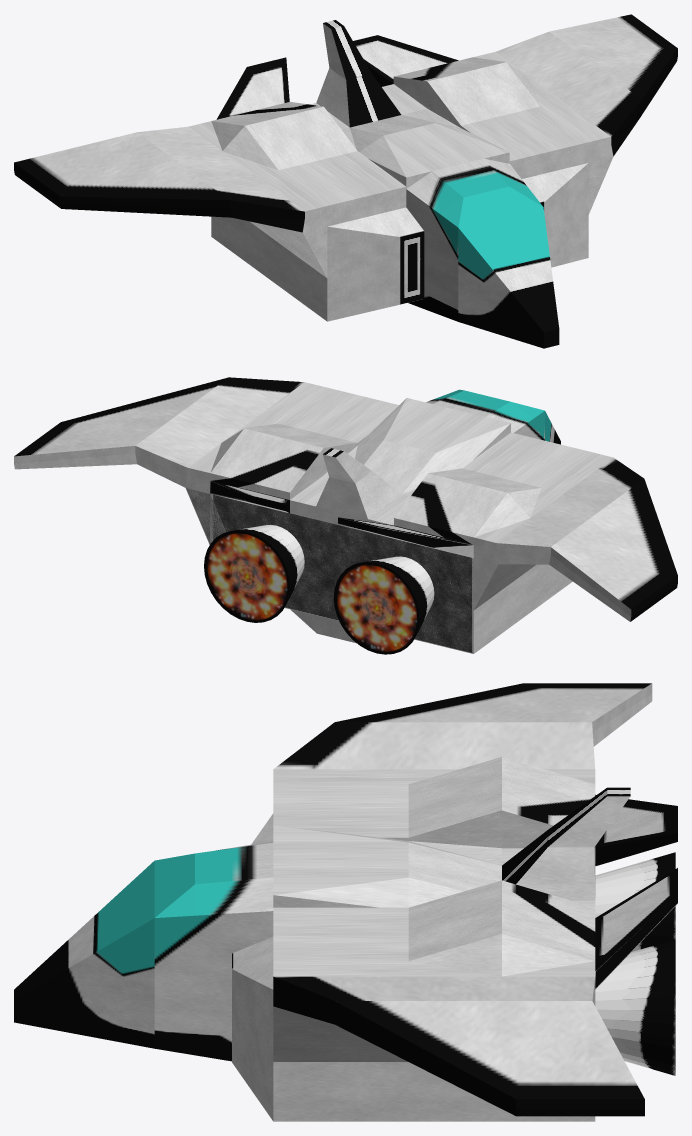
Rendered from spaceship.obj.
3 renders of one model, top to bottom at view 1: azimuth 30°, elevation 25°; view 2: azimuth 150°, elevation 25°; view 3: azimuth 270°, elevation 25°, orthographic. The views are drawn at different scales.
Parts seen in each view (by area): view 1: Cube; view 2: Cube, Cylinder.001, Cylinder; view 3: Cube, Cylinder, Cylinder.001.
Boxes of the visible parts, <box> form: Cube: <box>14,14,677,348</box>; Cube: <box>14,377,677,653</box>; Cylinder.001: <box>333,556,434,654</box>; Cylinder: <box>204,524,304,622</box>; Cube: <box>14,683,677,1121</box>; Cylinder: <box>595,939,675,1075</box>; Cylinder.001: <box>595,852,675,951</box>.
Size of the model in its own units: 11.89 by 3.56 by 8.02.
